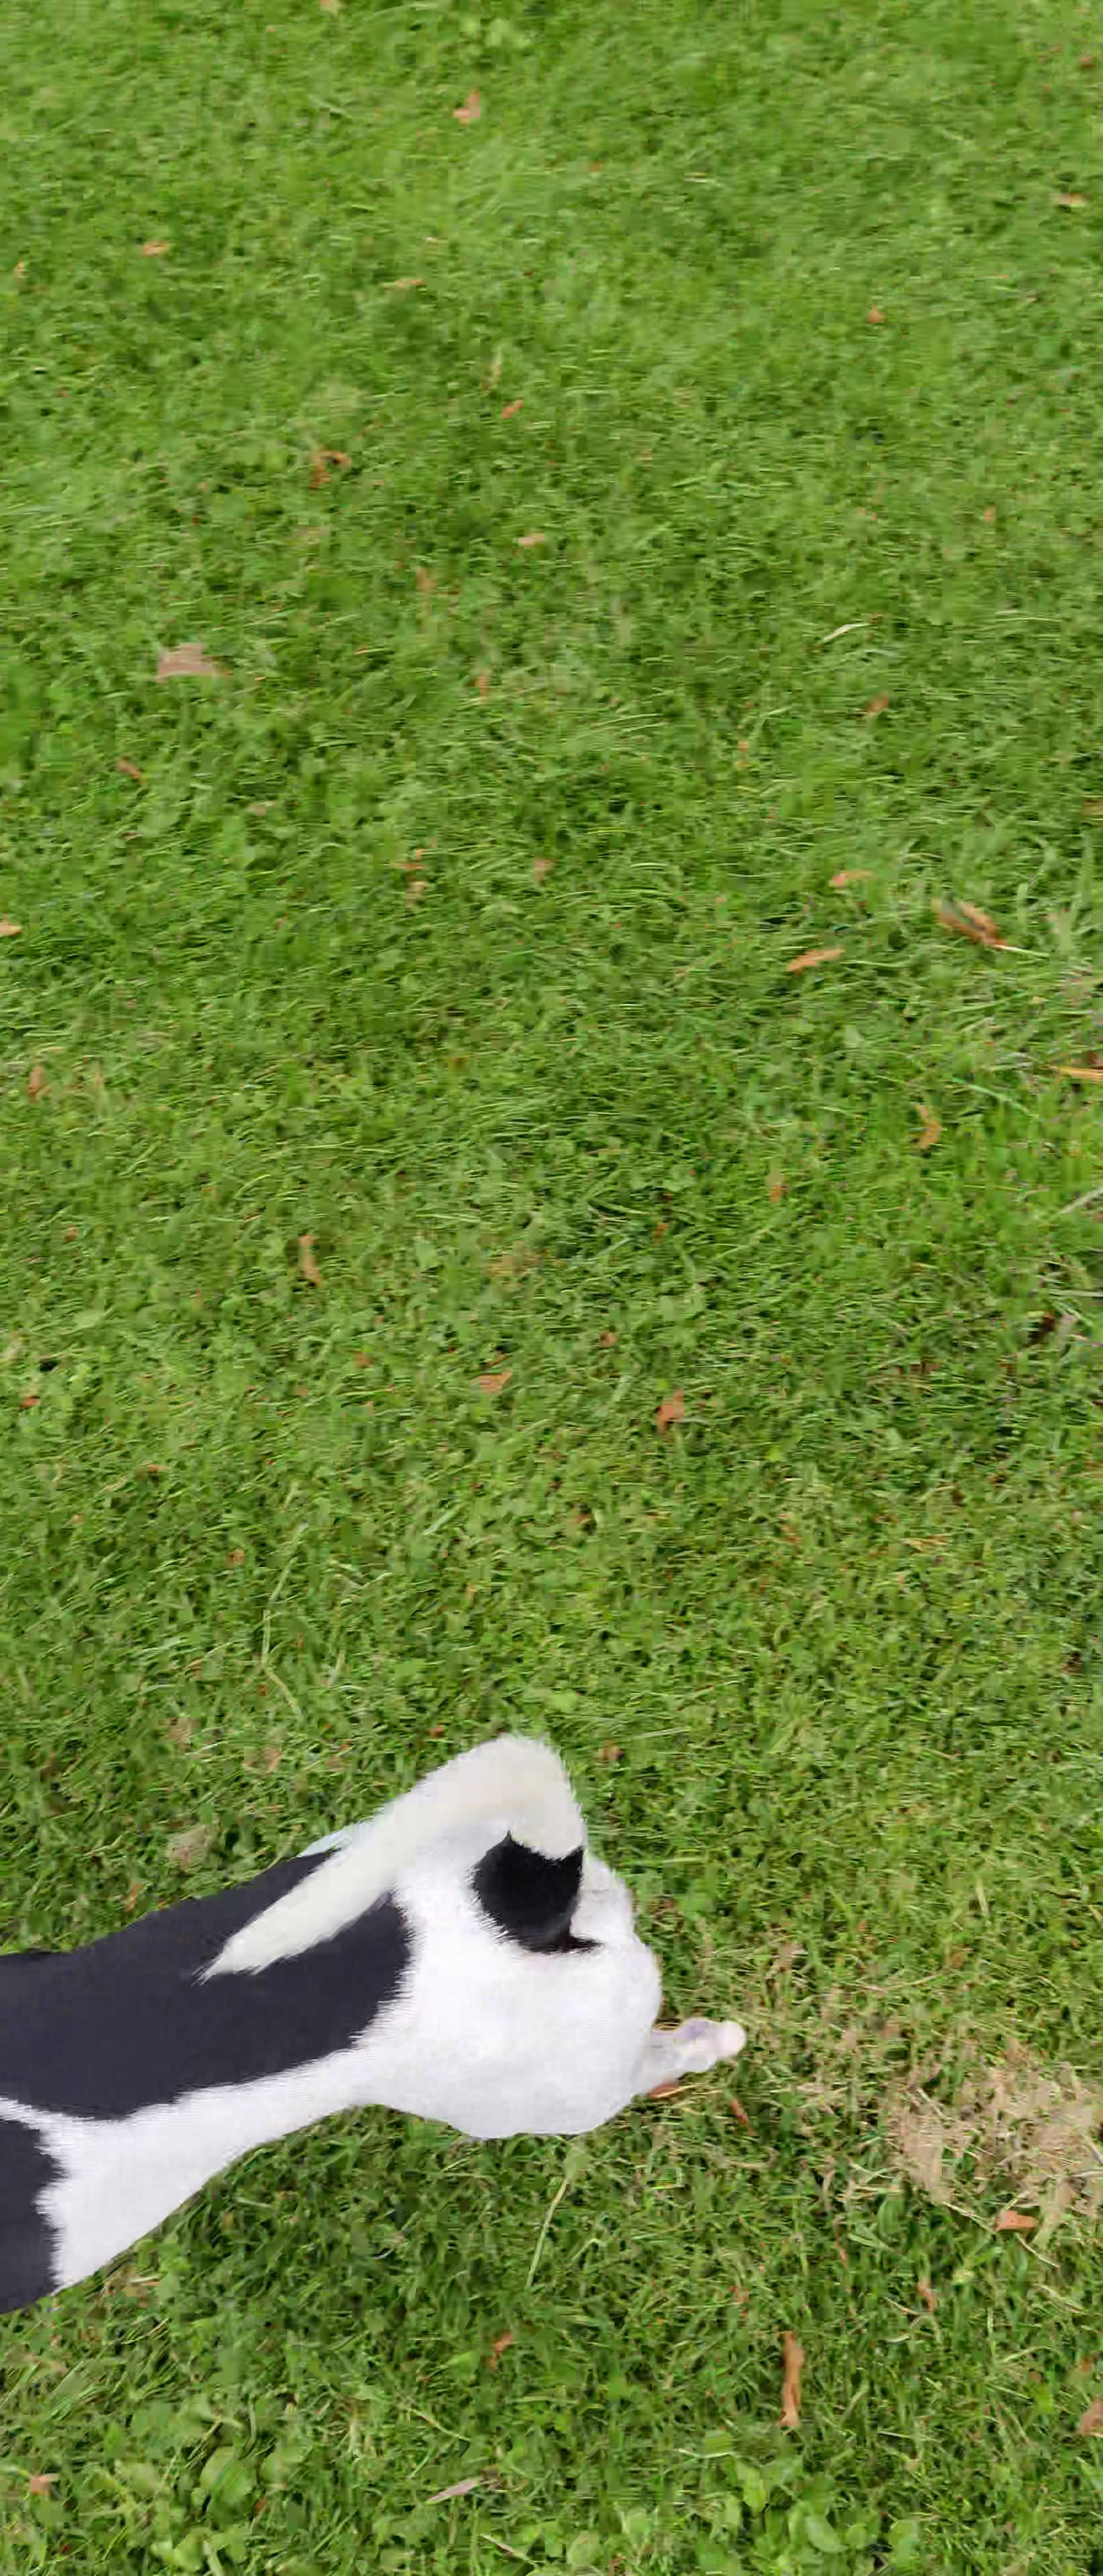Dog: (0, 1712, 804, 2336)
